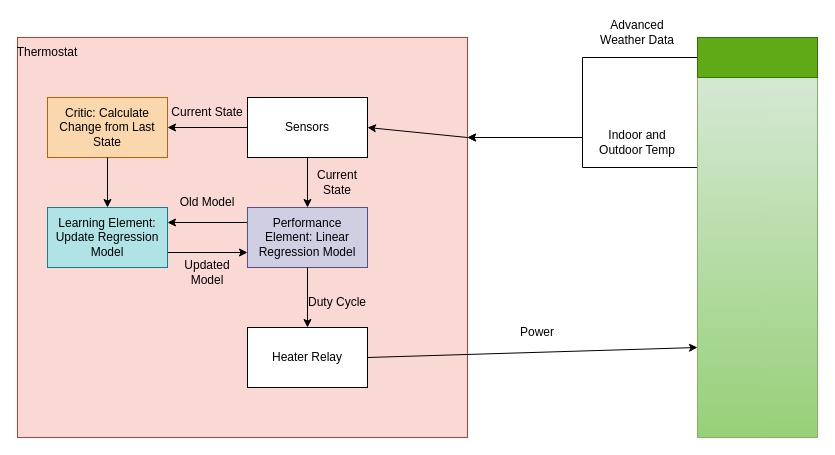
This 835x455 diagram has some shape labels left out. The centre of each missing label's shape, as x and y in pixels:
Environment: pixel 757 257
Weather API: pixel 757 57
